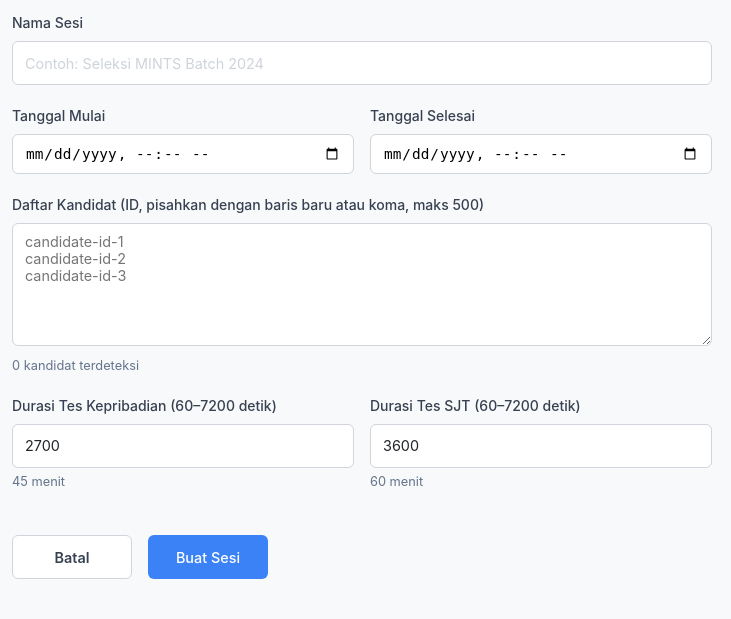
Scenario: SessionCreationForm › validates end date must be after start date
Type "Test Session" into the field labelled "Nama Sesi" at (362, 63), box [12, 41, 712, 85]
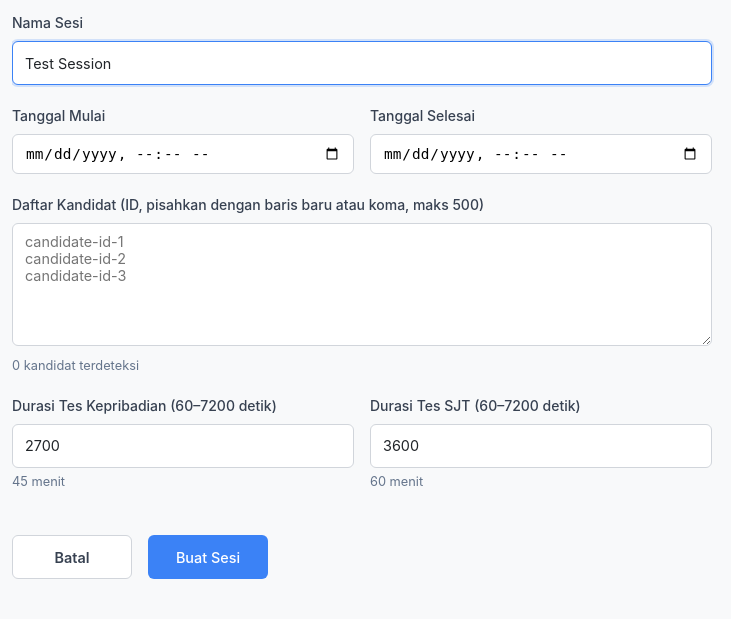
Type "2024-06-15T10:00" into the field labelled "Tanggal Mulai" at (183, 154), box [12, 134, 354, 174]
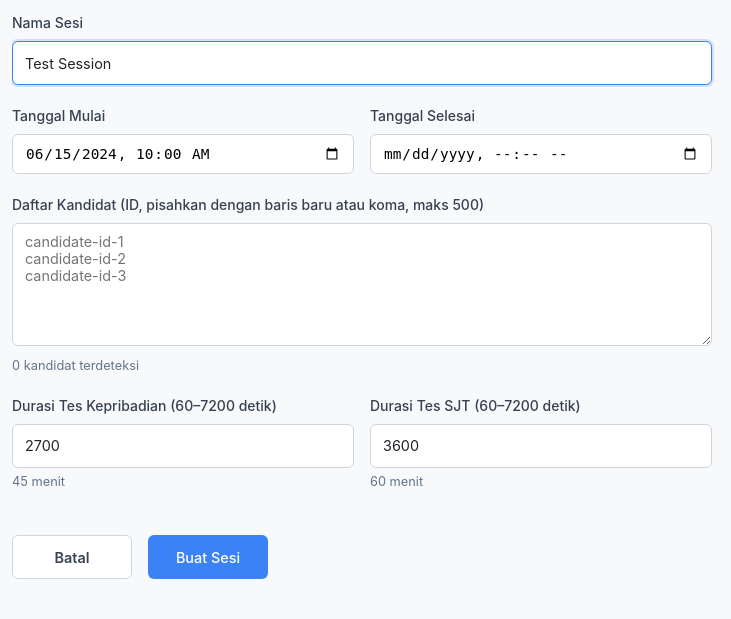
Type "2024-06-14T10:00" into the field labelled "Tanggal Selesai" at (541, 154), box [370, 134, 712, 174]
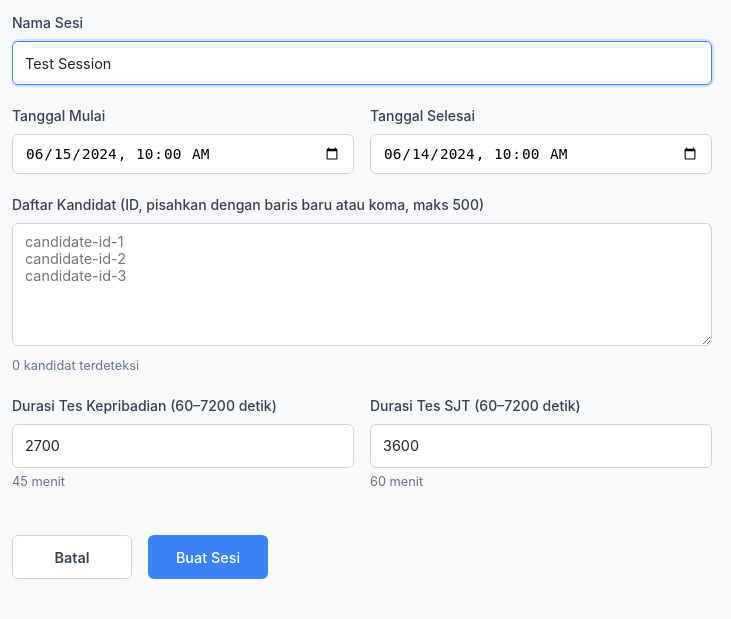
Type "candidate-1" into the text box labelled "Daftar Kandidat" at (362, 284), box [12, 223, 712, 346]
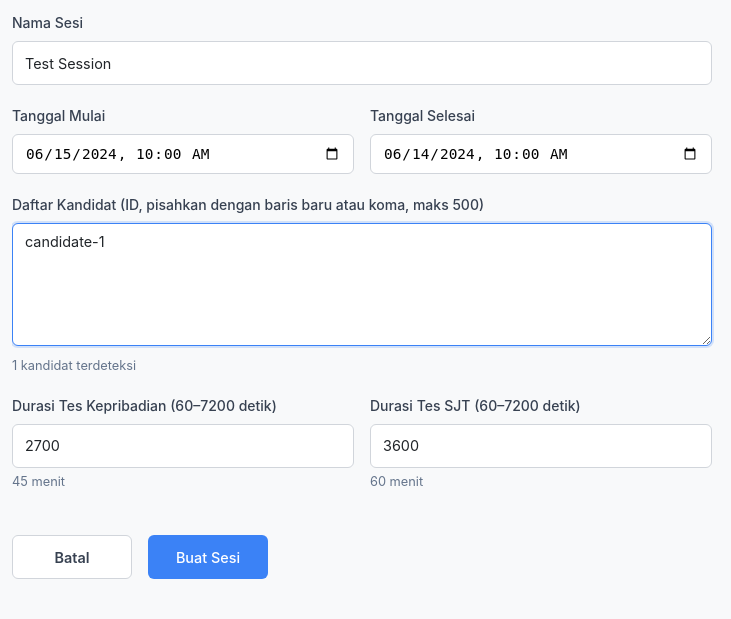
Click the button "Buat Sesi" at (208, 557), box [148, 535, 268, 579]
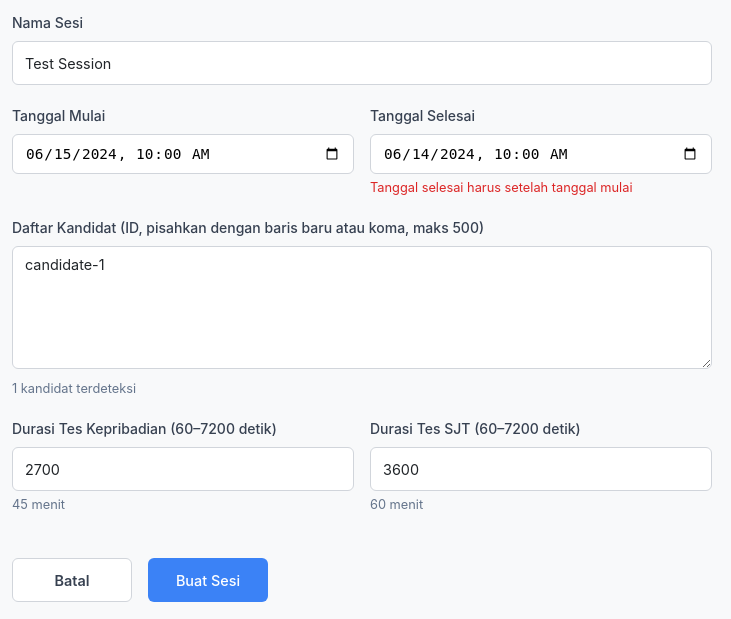
Now the text "Tanggal selesai harus setelah tanggal mulai" is shown, box [370, 180, 632, 195]
